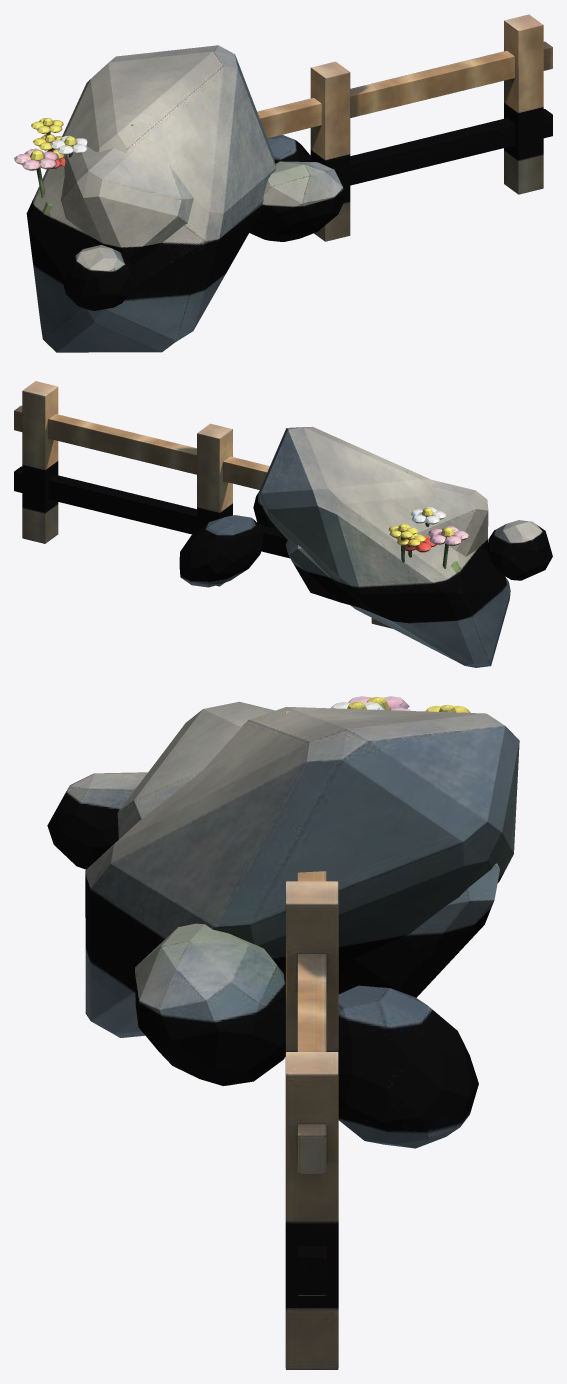
Rendered from strip-kit.glb.
The picture shows the model from 3 angles, top to bottom: view 1: azimuth 30°, elevation 25°; view 2: azimuth 150°, elevation 25°; view 3: azimuth 270°, elevation 25°; orthographic projection. The views are drawn at different scales.
Parts seen in each view (by area): view 1: rocher-b, barriere, rocher-a, fleurs, fleurs-b; view 2: rocher-b, barriere, rocher-a, fleurs, fleurs-b; view 3: rocher-b, rocher-a, barriere, fleurs.
Boxes of the visible parts, bbox=[...] form: rocher-b: bbox=[26, 45, 310, 352]; barriere: bbox=[131, 14, 552, 241]; rocher-a: bbox=[61, 137, 345, 310]; fleurs: bbox=[14, 135, 87, 216]; fleurs-b: bbox=[31, 118, 65, 212]; rocher-b: bbox=[179, 427, 510, 667]; barriere: bbox=[14, 381, 407, 628]; rocher-a: bbox=[253, 479, 552, 608]; fleurs: bbox=[410, 507, 468, 572]; fleurs-b: bbox=[388, 524, 459, 573]; rocher-b: bbox=[85, 707, 519, 1148]; rocher-a: bbox=[47, 701, 499, 1086]; barriere: bbox=[285, 711, 338, 1369]; fleurs: bbox=[331, 696, 410, 710].
Size of the model in its own units: 1.16 by 0.4968 by 0.4918.
Materials: 6 (6 with a texture image).
